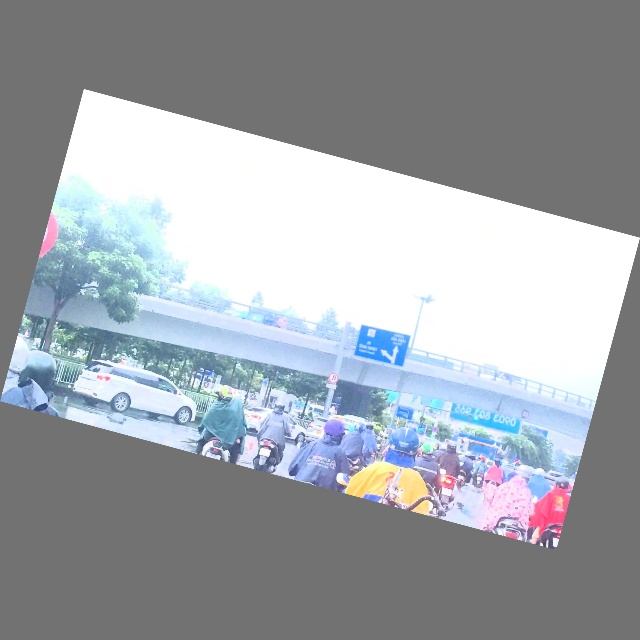P.124b1: (327, 372, 340, 386)
